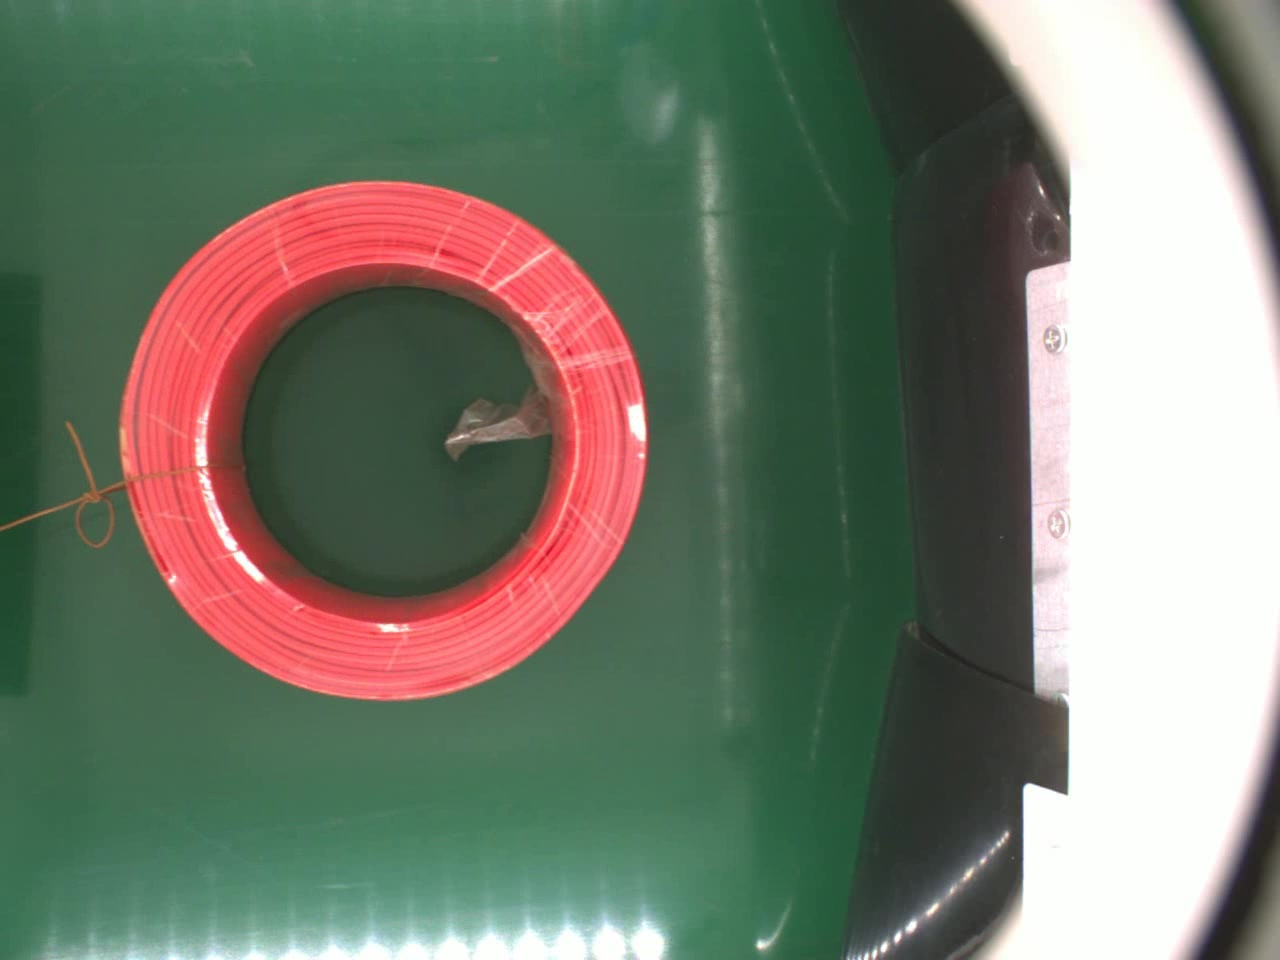red: (117, 179, 652, 701)
